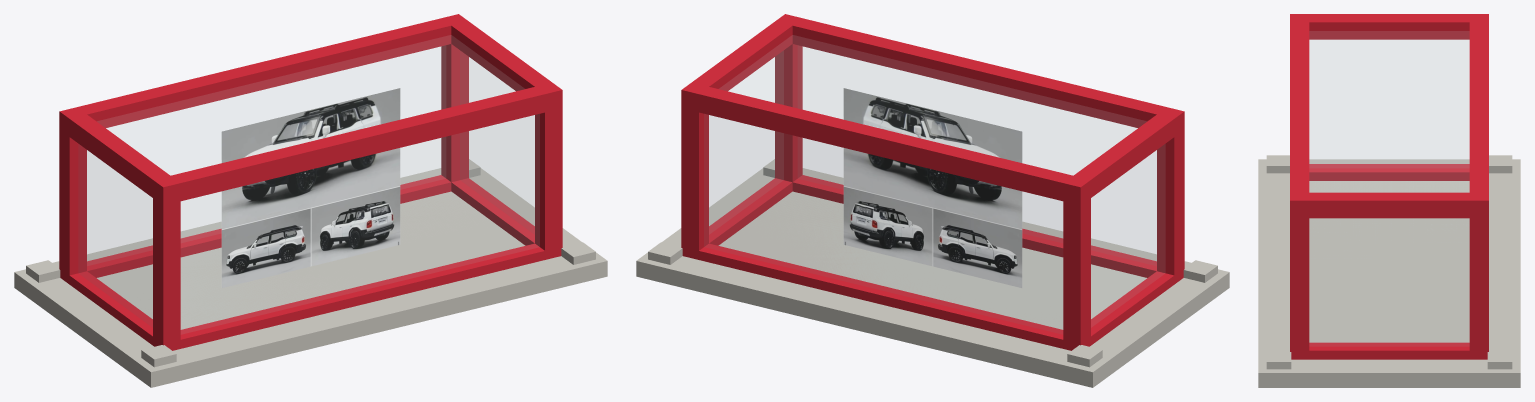
File: land-cruiser-250-white.glb
3 renders of one model, left to right at view 1: azimuth 30°, elevation 25°; view 2: azimuth 150°, elevation 25°; view 3: azimuth 270°, elevation 25°, orthographic. The views are drawn at different scales.
Bounding box in the file's own units: 0.183 × 0.0695 × 0.095.
Materials: 4 (1 with a texture image).
